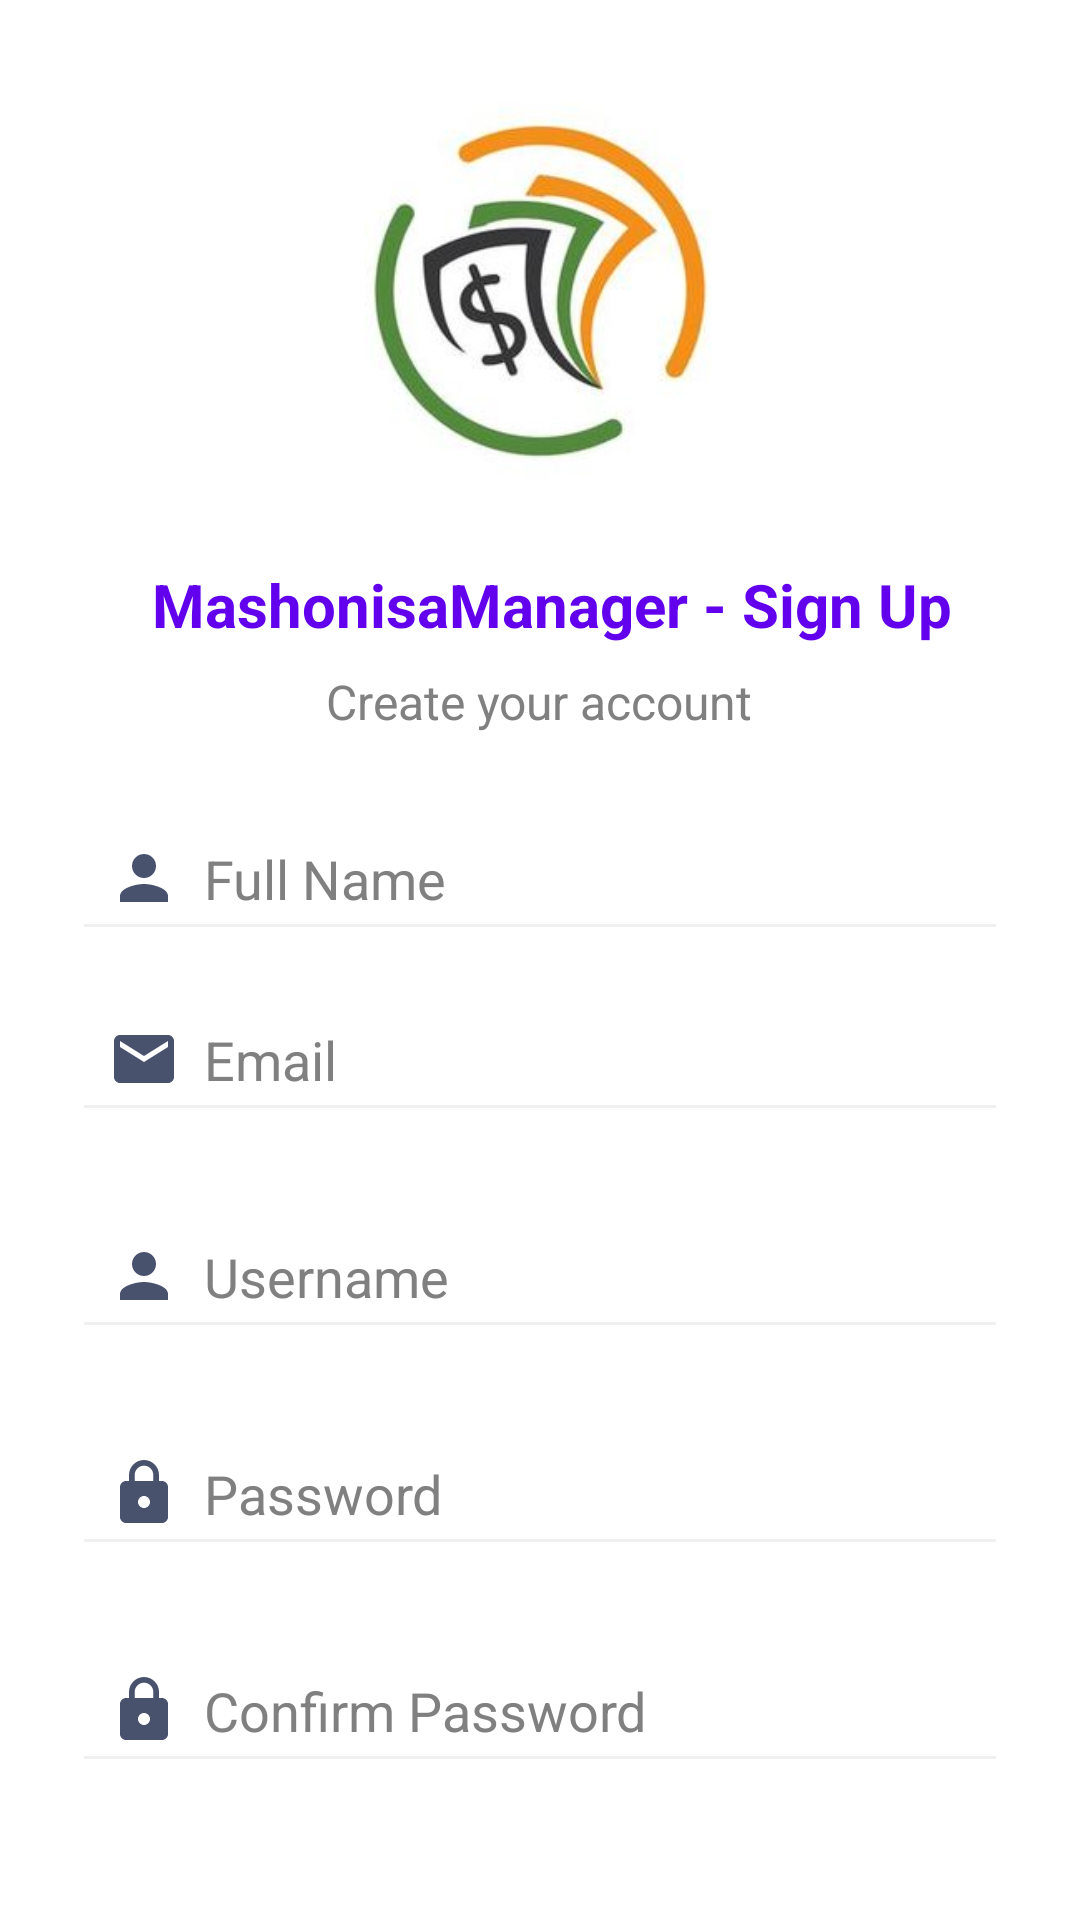

Named icons in this screenshot (1080px x 1920px) and their bounding boxes, [left=x1, top=y1, right=x2, bottom=y2]:
loanimage: [left=374, top=124, right=707, bottom=457]
